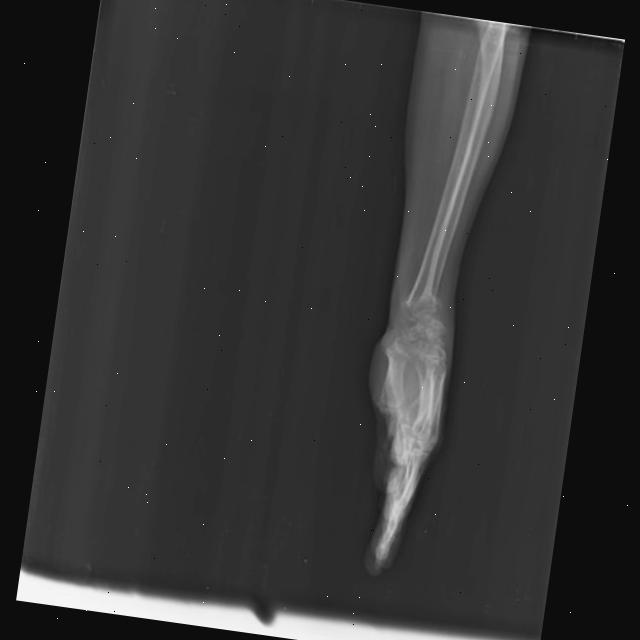Fracture: (402, 289, 447, 326)
